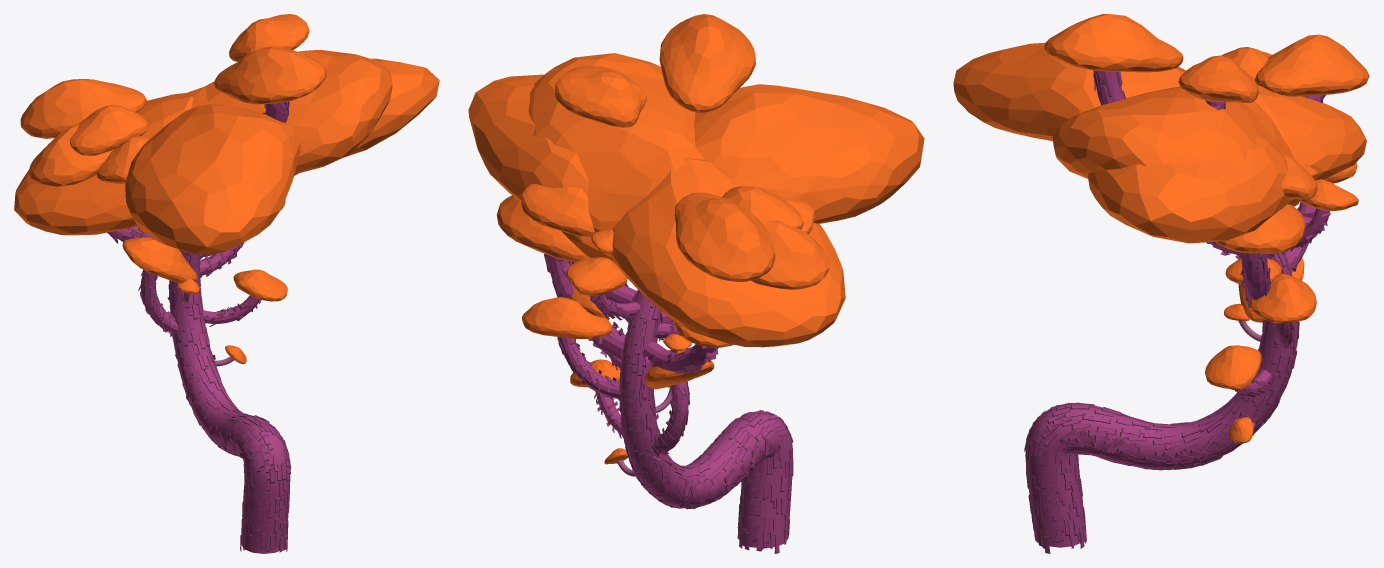
The model's file is tree2.fbx.
3 views of the same model, side by side, from view 1: azimuth 30°, elevation 25°; view 2: azimuth 150°, elevation 25°; view 3: azimuth 270°, elevation 25° (orthographic). The views are drawn at different scales.
Parts seen in each view (by area): view 1: BezierCurve.003; view 2: BezierCurve.003; view 3: BezierCurve.003.
Part boxes in pixels (x1,y1,x2,y2): BezierCurve.003: (14, 14, 439, 553); BezierCurve.003: (468, 14, 924, 553); BezierCurve.003: (953, 14, 1369, 553).
Size of the model in its own units: 928 by 1158 by 800.
